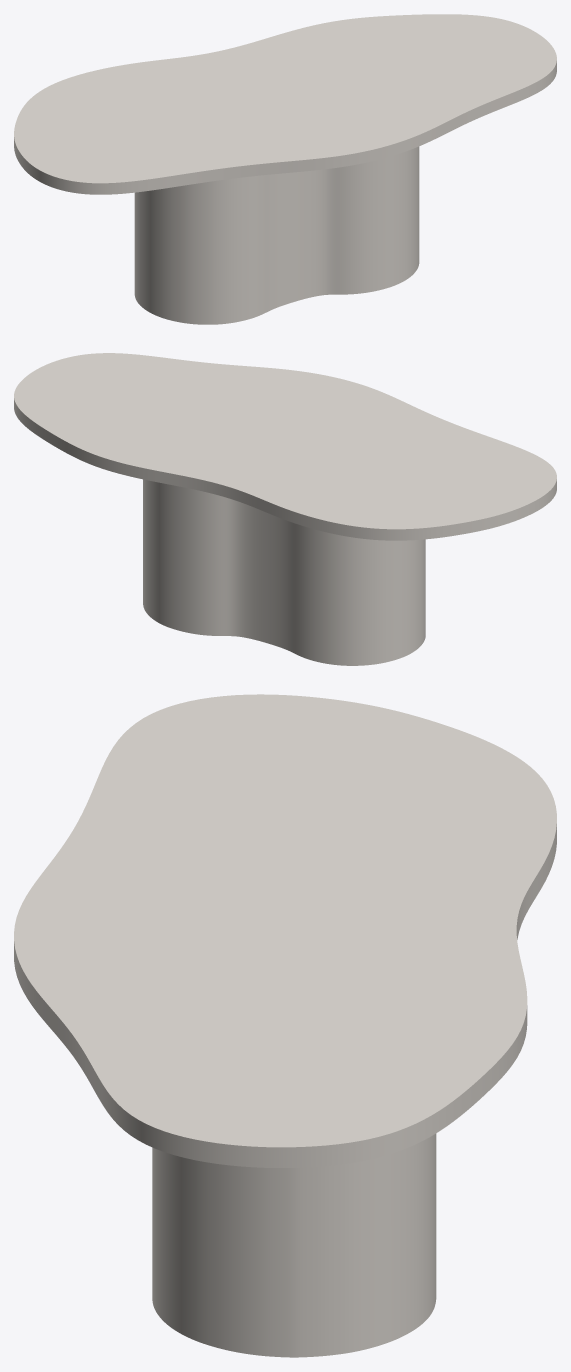
File: pearlwhite_toplast_standard_riverwave.glb
The picture shows the model from 3 angles, top to bottom: view 1: azimuth 30°, elevation 25°; view 2: azimuth 150°, elevation 25°; view 3: azimuth 270°, elevation 25°; orthographic projection. The views are drawn at different scales.
Visible parts, largest first — view 1: standard_toplast, riverwave; view 2: standard_toplast, riverwave; view 3: standard_toplast, riverwave.
Boxes of the visible parts, <box> form: standard_toplast: <box>14,14,556,194</box>; riverwave: <box>134,146,419,324</box>; standard_toplast: <box>14,353,556,540</box>; riverwave: <box>143,479,425,665</box>; standard_toplast: <box>14,694,556,1167</box>; riverwave: <box>152,1133,436,1357</box>.
Size of the model in its own units: 7.5 by 2.5 by 3.8.
Materials: 1 (1 with a texture image).
